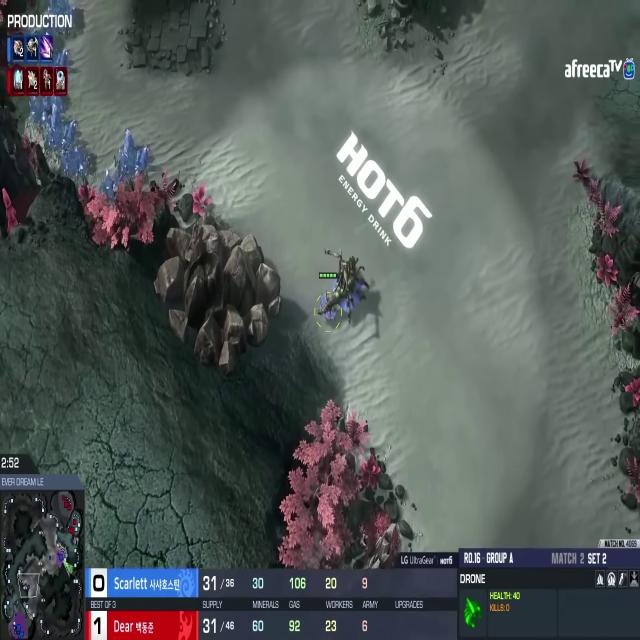drone: (315, 283, 341, 331)
queen: (321, 246, 372, 317)
